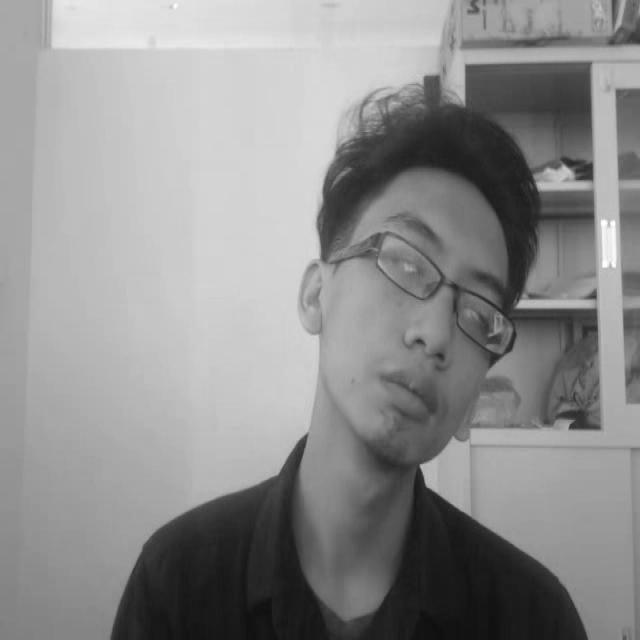real: (288, 75, 542, 481)
